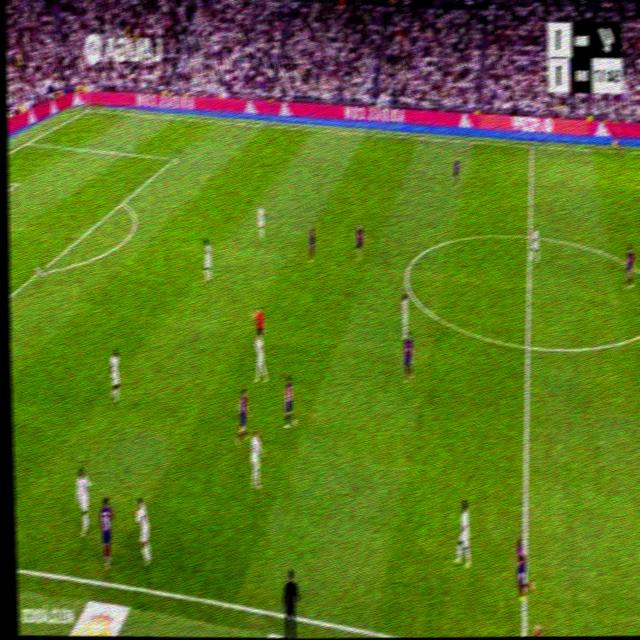bigarea_top_inner: (169, 150, 178, 165)
bottom_arc_area_intersection: (34, 262, 45, 280)
corner: (83, 102, 92, 113)
halfcircle_bottom: (520, 332, 534, 360)
halfcircle_top: (523, 226, 534, 245)
midline_top_intersection: (527, 138, 535, 152)
smallarea_top_inner: (13, 177, 19, 188)
top_arc_area_intersection: (117, 194, 127, 208)
